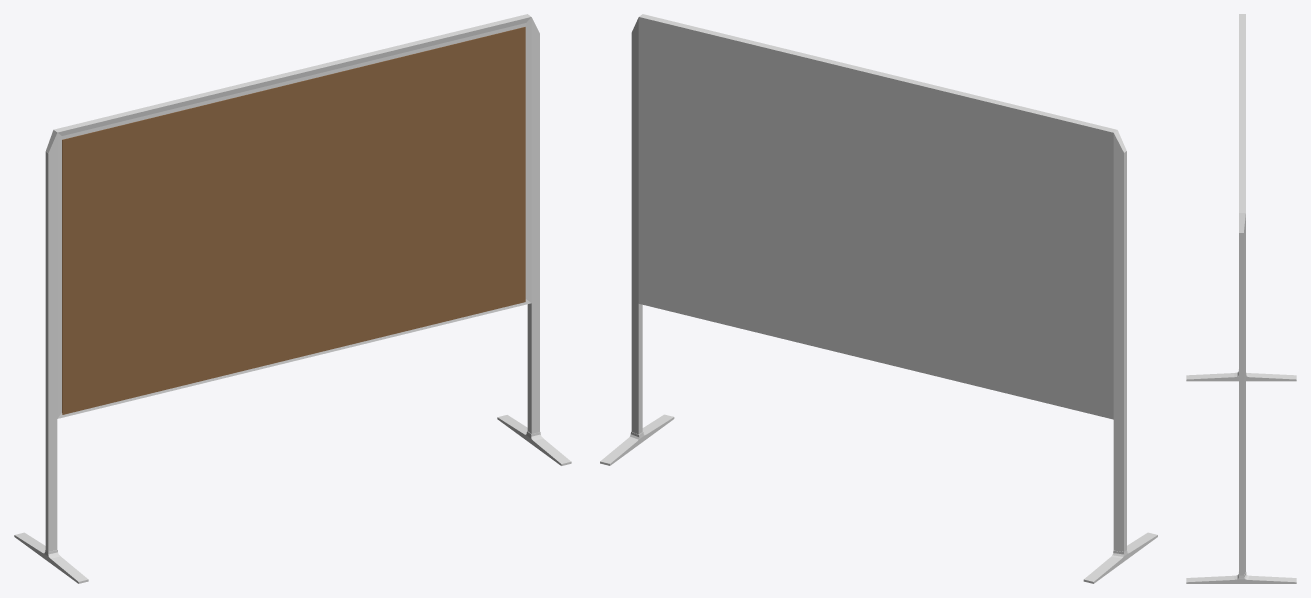
Rendered from tableau_liege.fbx.
3 renders of one model, left to right at view 1: azimuth 30°, elevation 25°; view 2: azimuth 150°, elevation 25°; view 3: azimuth 270°, elevation 25°, orthographic. The views are drawn at different scales.
Parts seen in each view (by area): view 1: Cube.035; view 2: Cube.035; view 3: Cube.035.
Part boxes in pixels (<box>): Cube.035: <box>14,14,571,583</box>; Cube.035: <box>600,14,1157,583</box>; Cube.035: <box>1186,14,1296,583</box>.
Size of the model in its own units: 224 by 185 by 50.44.
